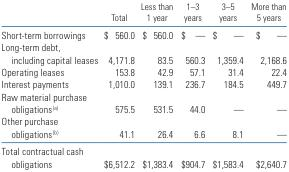table: (0, 0, 285, 169)
table column: (0, 0, 100, 169), (137, 0, 176, 169), (246, 0, 285, 169), (208, 0, 246, 169), (100, 0, 137, 169), (176, 0, 208, 169)
table column header: (0, 0, 285, 25)
table row: (0, 114, 285, 142), (0, 142, 285, 169), (0, 0, 285, 25), (0, 40, 285, 65), (0, 90, 285, 114), (0, 25, 285, 40), (0, 77, 285, 90), (0, 65, 285, 77)
